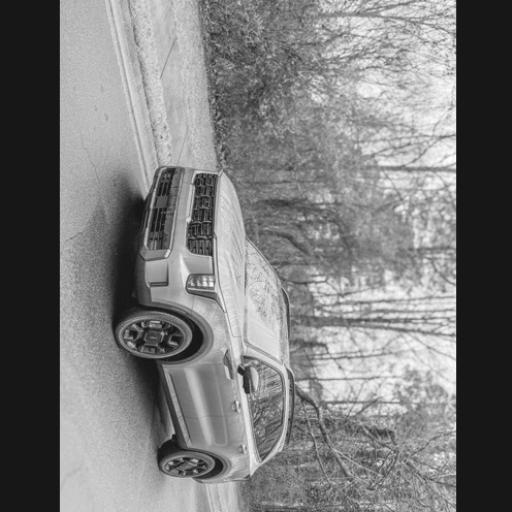suv: (116, 166, 294, 482)
